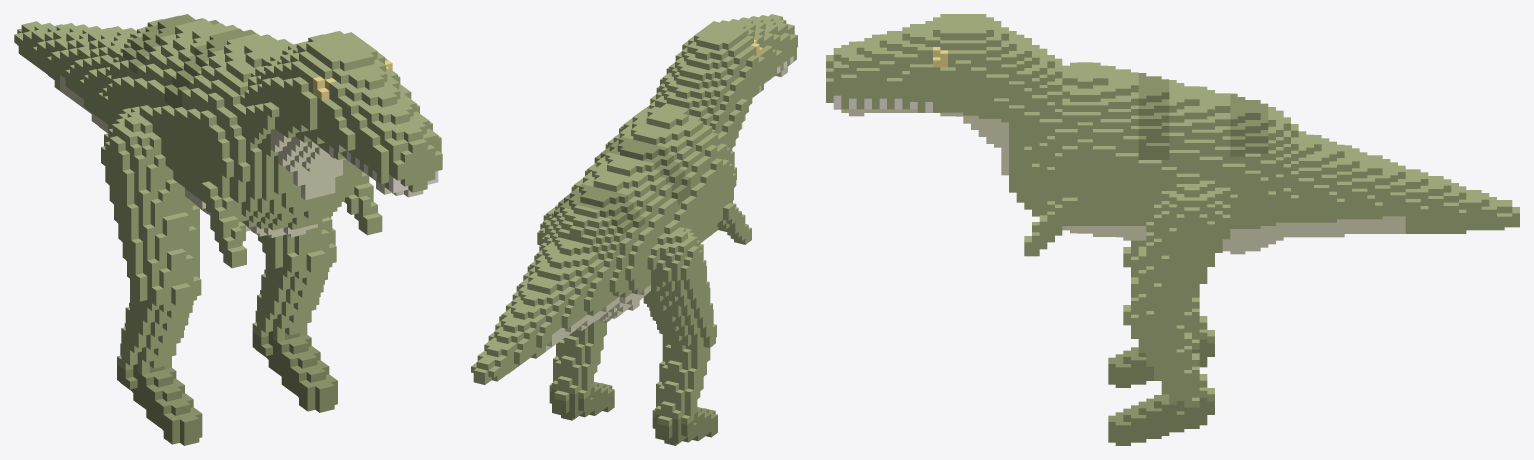
File: tyrant_lizard.glb
The picture shows the model from 3 angles, left to right: view 1: azimuth 30°, elevation 25°; view 2: azimuth 150°, elevation 25°; view 3: azimuth 270°, elevation 25°; orthographic projection. The views are drawn at different scales.
Parts seen in each view (by area): view 1: item; view 2: item; view 3: item.
Boxes of the visible parts, <box> form: item: <box>14,14,442,445</box>; item: <box>471,14,797,445</box>; item: <box>826,14,1519,445</box>.
Bounding box in the file's own units: 26 × 56 × 91.
